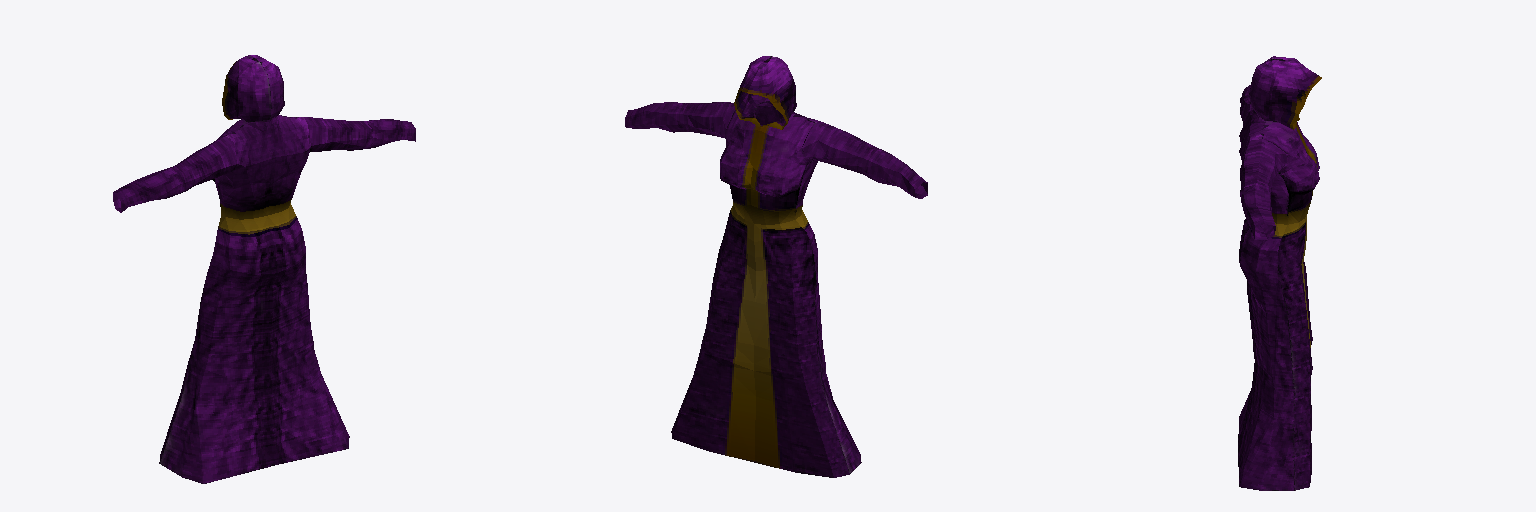
3 views of the same model, side by side, from view 1: azimuth 30°, elevation 25°; view 2: azimuth 150°, elevation 25°; view 3: azimuth 270°, elevation 25° (orthographic).
Parts seen in each view (by area): view 1: robe; view 2: robe; view 3: robe.
Boxes of the visible parts, box(x1,y1,x2,y2) form: robe: box(113, 55, 415, 483); robe: box(625, 56, 927, 477); robe: box(1238, 56, 1321, 490).
Bounding box in the file's own units: 72.77 × 92.58 × 18.02.
Materials: 1 (1 with a texture image).